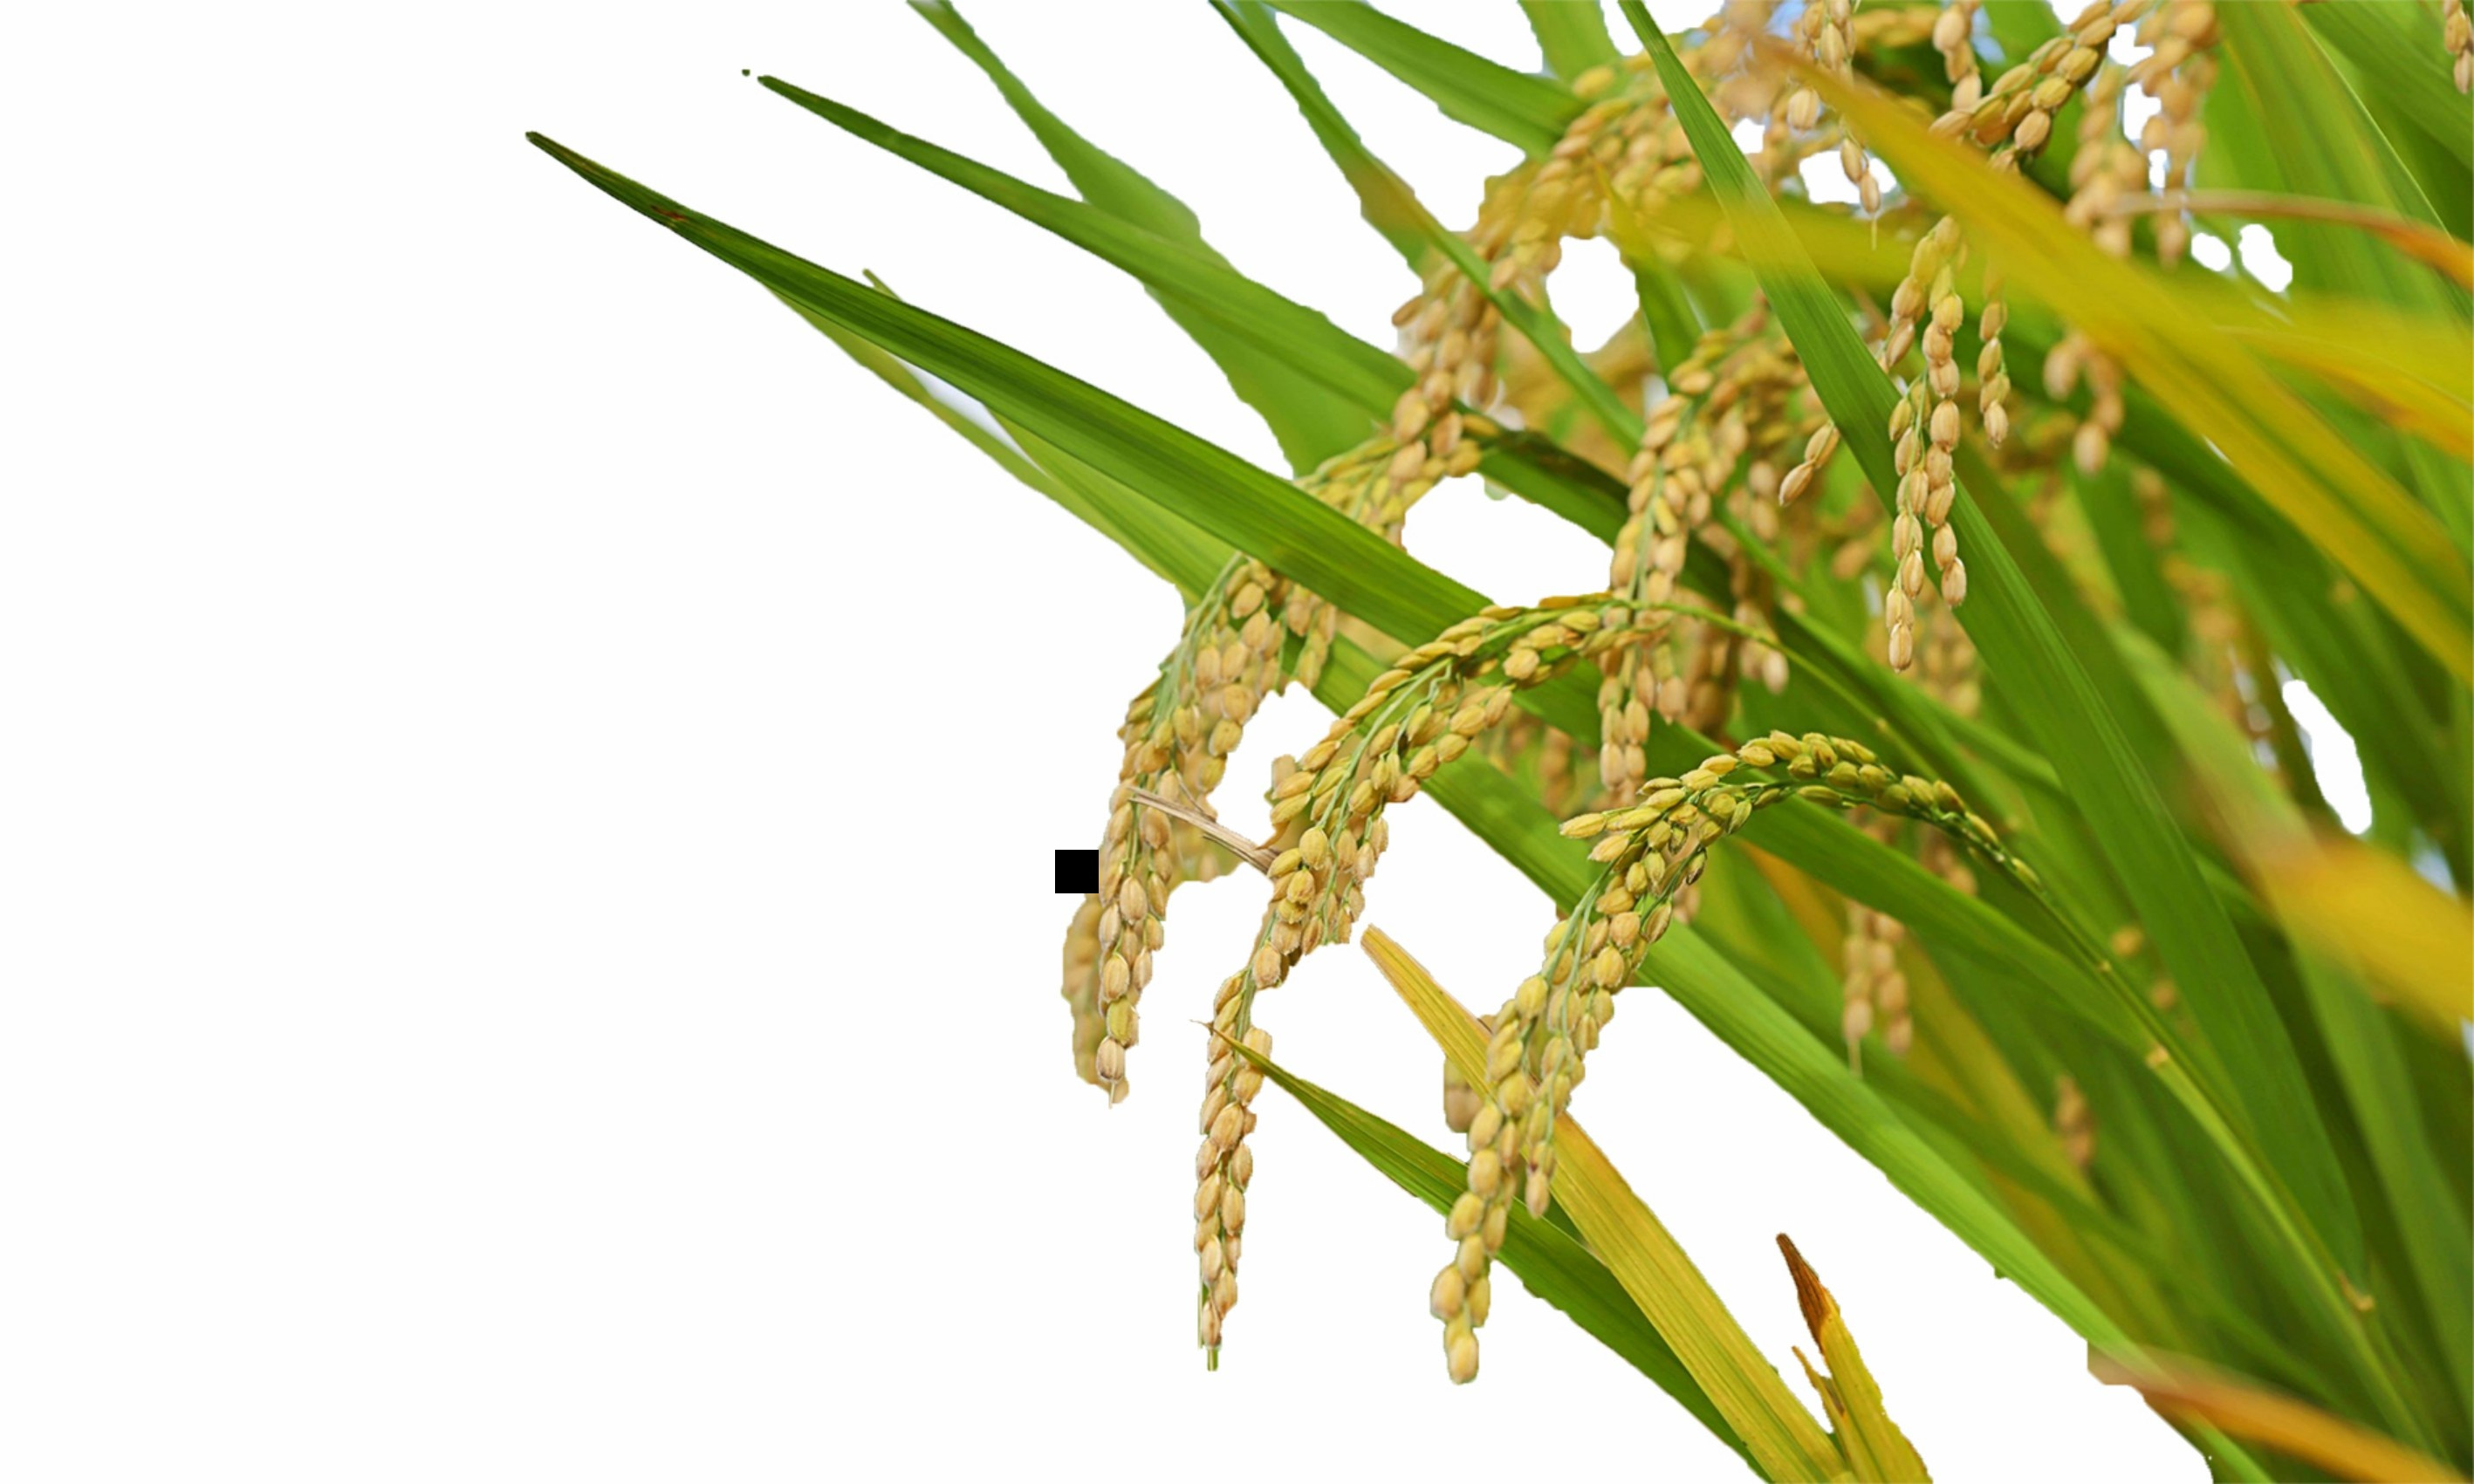rice: (1210, 562, 1824, 1359), (1444, 726, 1954, 1406), (1055, 408, 1431, 1088)
